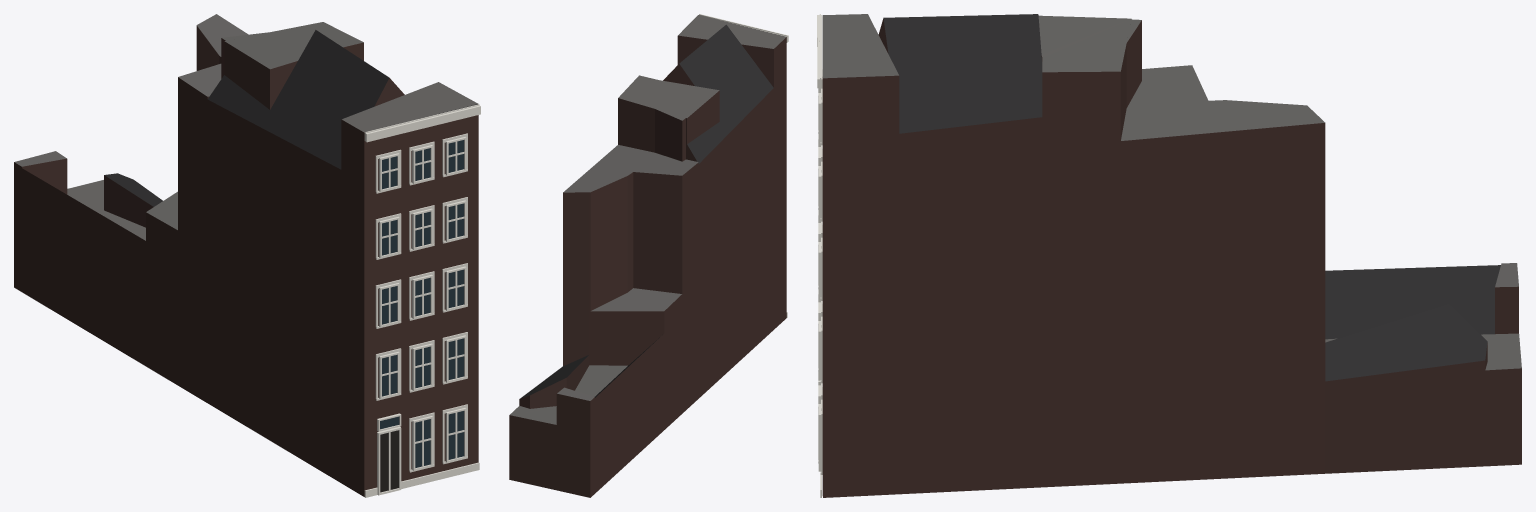
The picture shows the model from 3 angles, left to right: view 1: azimuth 30°, elevation 25°; view 2: azimuth 150°, elevation 25°; view 3: azimuth 270°, elevation 25°; orthographic projection. The views are drawn at different scales.
Visible parts, largest first — view 1: spec-0363100012171160; view 2: spec-0363100012171160; view 3: spec-0363100012171160.
Part boxes in pixels (x1,y1,x2,y2): spec-0363100012171160: (14, 14, 480, 497); spec-0363100012171160: (509, 14, 788, 497); spec-0363100012171160: (817, 14, 1521, 497).
Bounding box in the file's own units: 7.34 × 16.75 × 24.03.
